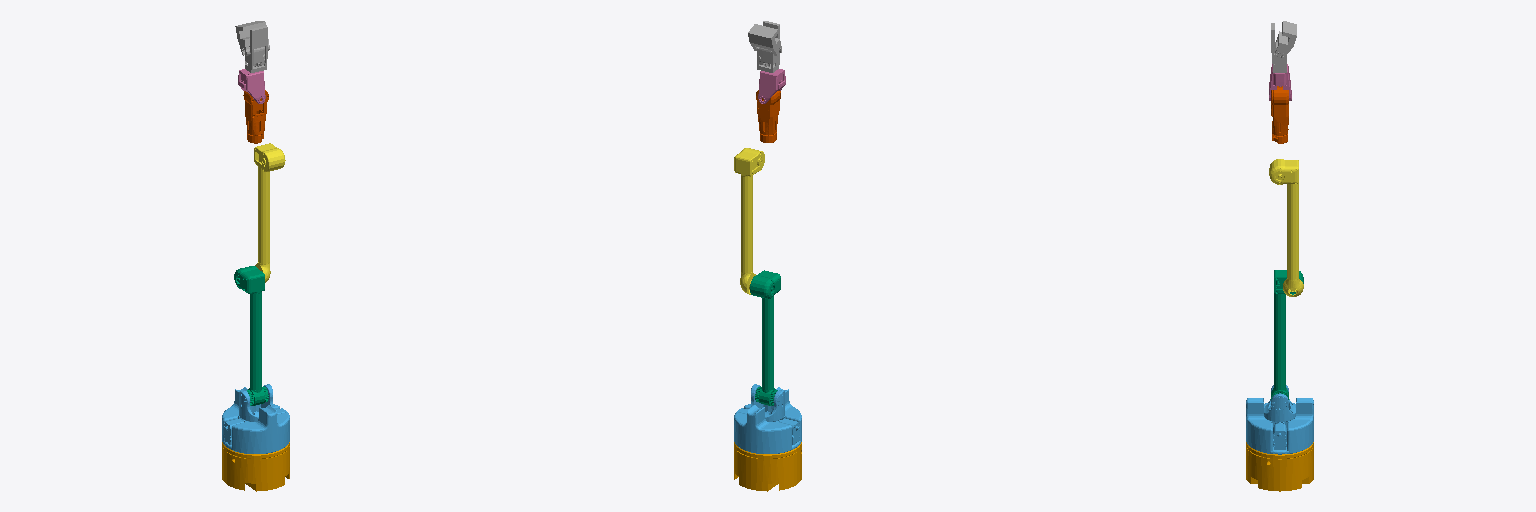
URDF robot description (RobotArm_latest_v4):
<?xml version="1.0" encoding="utf-8"?>
<robot name="RobotArm_latest_v4">
	<link name="1axisUnit_V2_v1:1">
		<inertial>
			<mass value="1.6492919058275461"/>
			<origin rpy="0 0 0" xyz="-0.000576388088246092 0.0016491640558422408 0.0015186369656774057"/>
			<inertia ixx="0.003919393469982381" ixy="-3.2319365894090847e-06" ixz="2.1439122441835943e-05" iyy="0.003813861655533455" iyz="-1.3107000977914124e-05" izz="0.005373773666601636"/>
		</inertial>
		<collision name="1axisUnit_V2_v1:1_collision">
			<origin rpy="1.5707963267948915 6.523902405371839e-23 -1.6940658945086007e-21" xyz="4.440892098500635e-18 -9.769962616701378e-17 -1.509903313490213e-16"/>
			<geometry>
				<mesh filename="../meshes/1axisUnit_V2_v1.stl" scale="1.0 1.0 1.0"/>
			</geometry>
		</collision>
		<visual name="1axisUnit_V2_v1:1_visual">
			<origin rpy="1.5707963267948915 6.523902405371839e-23 -1.6940658945086007e-21" xyz="4.440892098500635e-18 -9.769962616701378e-17 -1.509903313490213e-16"/>
			<geometry>
				<mesh filename="../meshes/1axisUnit_V2_v1.stl" scale="1.0 1.0 1.0"/>
			</geometry>
		</visual>
	</link>
	<link name="2axisUnit_V2_v1:1">
		<inertial>
			<mass value="1.2904396303449601"/>
			<origin rpy="0 0 0" xyz="2.4656351633139383e-06 -2.8915223362521925e-06 0.04025801037904122"/>
			<inertia ixx="0.003359360159203426" ixy="-2.7205016441996785e-07" ixz="8.705883460394097e-08" iyy="0.002901837881422392" iyz="-1.8124689093922272e-07" izz="0.004350868283339188"/>
		</inertial>
		<collision name="2axisUnit_V2_v1:1_collision">
			<origin rpy="1.5707963267948906 6.523902405371838e-23 -1.6940658945086007e-21" xyz="0.0 0.0 0.0"/>
			<geometry>
				<mesh filename="../meshes/2axisUnit_V2_v1.stl" scale="1.0 1.0 1.0"/>
			</geometry>
		</collision>
		<visual name="2axisUnit_V2_v1:1_visual">
			<origin rpy="1.5707963267948906 6.523902405371838e-23 -1.6940658945086007e-21" xyz="0.0 0.0 0.0"/>
			<geometry>
				<mesh filename="../meshes/2axisUnit_V2_v1.stl" scale="1.0 1.0 1.0"/>
			</geometry>
		</visual>
	</link>
	<link name="3axisUnit_V3_v1:1">
		<inertial>
			<mass value="0.24656823524718646"/>
			<origin rpy="0 0 0" xyz="0.02255647088429151 0.01071370705918008 0.1903083823864123"/>
			<inertia ixx="0.00414005444517233" ixy="5.23365524210864e-06" ixz="7.708919417689804e-05" iyy="0.0040981689273819144" iyz="-0.00028010926245052123" izz="0.00012200890992039978"/>
		</inertial>
		<collision name="3axisUnit_V3_v1:1_collision">
			<origin rpy="-3.141592653589787 4.0371743676253047e-16 -3.1415926535897927" xyz="0.04 0.031000000000002068 0.2964999999999997"/>
			<geometry>
				<mesh filename="../meshes/3axisUnit_V3_v1.stl" scale="1.0 1.0 1.0"/>
			</geometry>
		</collision>
		<visual name="3axisUnit_V3_v1:1_visual">
			<origin rpy="-3.141592653589787 4.0371743676253047e-16 -3.1415926535897927" xyz="0.04 0.031000000000002068 0.2964999999999997"/>
			<geometry>
				<mesh filename="../meshes/3axisUnit_V3_v1.stl" scale="1.0 1.0 1.0"/>
			</geometry>
		</visual>
	</link>
	<link name="4axisUnit_V3_v1:1">
		<inertial>
			<mass value="0.22835968151193015"/>
			<origin rpy="0 0 0" xyz="0.022527227877253635 -0.011567967503123396 0.2152054112615837"/>
			<inertia ixx="0.003458123011900193" ixy="6.333484787883625e-06" ixz="-9.830290084979084e-05" iyy="0.0034133992070581372" iyz="0.0002407567649558505" izz="0.00011322979019264717"/>
		</inertial>
		<collision name="4axisUnit_V3_v1:1_collision">
			<origin rpy="3.1415926535779786 -6.566118286595108e-16 -1.9338981913259723e-15" xyz="0.027399327255467502 -0.01560367610838086 0.2922499996913254"/>
			<geometry>
				<mesh filename="../meshes/4axisUnit_V3_v1.stl" scale="1.0 1.0 1.0"/>
			</geometry>
		</collision>
		<visual name="4axisUnit_V3_v1:1_visual">
			<origin rpy="3.1415926535779786 -6.566118286595108e-16 -1.9338981913259723e-15" xyz="0.027399327255467502 -0.01560367610838086 0.2922499996913254"/>
			<geometry>
				<mesh filename="../meshes/4axisUnit_V3_v1.stl" scale="1.0 1.0 1.0"/>
			</geometry>
		</visual>
	</link>
	<link name="5axisUnit_V2_v1:1">
		<inertial>
			<mass value="0.15898340253563104"/>
			<origin rpy="0 0 0" xyz="-0.032330261371653984 1.1835534350135143e-05 0.021640892702850745"/>
			<inertia ixx="0.00011681316189311702" ixy="3.1570735792074495e-08" ixz="4.5503994442626095e-07" iyy="0.00013277822169795853" iyz="-3.057968772300513e-08" izz="7.633901854223706e-05"/>
		</inertial>
		<collision name="5axisUnit_V2_v1:1_collision">
			<origin rpy="-1.8166746468720625 -1.5707963267948943 1.817381524874677" xyz="-0.008000000000000009 -1.9436126427891806e-16 -2.220446049250313e-16"/>
			<geometry>
				<mesh filename="../meshes/5axisUnit_V2_v1.stl" scale="1.0 1.0 1.0"/>
			</geometry>
		</collision>
		<visual name="5axisUnit_V2_v1:1_visual">
			<origin rpy="-1.8166746468720625 -1.5707963267948943 1.817381524874677" xyz="-0.008000000000000009 -1.9436126427891806e-16 -2.220446049250313e-16"/>
			<geometry>
				<mesh filename="../meshes/5axisUnit_V2_v1.stl" scale="1.0 1.0 1.0"/>
			</geometry>
		</visual>
	</link>
	<link name="6axisUnit_V2_v1:1">
		<inertial>
			<mass value="0.155294452473962"/>
			<origin rpy="0 0 0" xyz="-0.00019868381399057997 0.0008707799634595213 0.08131429843948212"/>
			<inertia ixx="0.00025461657762102733" ixy="-3.154100817581795e-07" ixz="-2.043171342398531e-06" iyy="0.0002581275245912366" iyz="4.081389396346191e-06" izz="4.467764847505855e-05"/>
		</inertial>
		<collision name="6axisUnit_V2_v1:1_collision">
			<origin rpy="-3.141592653589775 -6.440245808144577e-15 -4.570451759405106e-06" xyz="-0.010452005194530973 -0.02074995222983164 0.019999999999998908"/>
			<geometry>
				<mesh filename="../meshes/6axisUnit_V2_v1.stl" scale="1.0 1.0 1.0"/>
			</geometry>
		</collision>
		<visual name="6axisUnit_V2_v1:1_visual">
			<origin rpy="-3.141592653589775 -6.440245808144577e-15 -4.570451759405106e-06" xyz="-0.010452005194530973 -0.02074995222983164 0.019999999999998908"/>
			<geometry>
				<mesh filename="../meshes/6axisUnit_V2_v1.stl" scale="1.0 1.0 1.0"/>
			</geometry>
		</visual>
	</link>
	<link name="7axisUnit_V2_v1:1">
		<inertial>
			<mass value="0.09420837413767698"/>
			<origin rpy="0 0 0" xyz="-0.011722505262838257 0.021969912068283973 0.04174325396554135"/>
			<inertia ixx="4.3079417761919105e-05" ixy="3.2853663984358514e-08" ixz="9.229365199608708e-07" iyy="4.0408524237523126e-05" iyz="-8.273741230857556e-09" izz="3.538526789725462e-05"/>
		</inertial>
		<collision name="7axisUnit_V2_v1:1_collision">
			<origin rpy="1.5707963267830969 -7.660538730665756e-15 -1.5708054676865917" xyz="-0.009499890595103339 0.021950086164177575 0.030000000000111604"/>
			<geometry>
				<mesh filename="../meshes/7axisUnit_V2_v1.stl" scale="1.0 1.0 1.0"/>
			</geometry>
		</collision>
		<visual name="7axisUnit_V2_v1:1_visual">
			<origin rpy="1.5707963267830969 -7.660538730665756e-15 -1.5708054676865917" xyz="-0.009499890595103339 0.021950086164177575 0.030000000000111604"/>
			<geometry>
				<mesh filename="../meshes/7axisUnit_V2_v1.stl" scale="1.0 1.0 1.0"/>
			</geometry>
		</visual>
	</link>
	<link name="RobotHandUnit_v1:1">
		<inertial>
			<mass value="0.17069797278417315"/>
			<origin rpy="0 0 0" xyz="0.00014835427835340625 0.005990671856333019 0.06235743656459469"/>
			<inertia ixx="0.0001920533040766486" ixy="9.567758909769614e-08" ixz="1.4613630495019293e-06" iyy="0.00019598360062871053" iyz="-2.664575053557936e-05" izz="8.587431142091076e-05"/>
		</inertial>
		<collision name="RobotHandUnit_v1:1_collision">
			<origin rpy="3.1268194674078814e-06 1.1796908009783832e-11 -9.14090351295226e-06" xyz="-0.0021078530678332098 0.015999882602897218 0.06400006819415038"/>
			<geometry>
				<mesh filename="../meshes/RobotHandUnit_v1.stl" scale="1.0 1.0 1.0"/>
			</geometry>
		</collision>
		<visual name="RobotHandUnit_v1:1_visual">
			<origin rpy="3.1268194674078814e-06 1.1796908009783832e-11 -9.14090351295226e-06" xyz="-0.0021078530678332098 0.015999882602897218 0.06400006819415038"/>
			<geometry>
				<mesh filename="../meshes/RobotHandUnit_v1.stl" scale="1.0 1.0 1.0"/>
			</geometry>
		</visual>
	</link>
	<joint name="rev0" type="continuous">
		<parent link="1axisUnit_V2_v1:1"/>
		<child link="2axisUnit_V2_v1:1"/>
		<origin rpy="0 0 0" xyz="3.552713678800501e-17 2.3980817331903383e-16 0.04799999999999983"/>
		<axis xyz="2.0816698767959734e-16 -6.158584260590885e-15 -1.0"/>
	</joint>
	<joint name="rev1" type="continuous">
		<parent link="2axisUnit_V2_v1:1"/>
		<child link="3axisUnit_V3_v1:1"/>
		<origin rpy="0 0 0" xyz="-0.025999999999999995 8.320618415054219e-16 0.11450000000000005"/>
		<axis xyz="-1.0 -4.0371576943416255e-16 6.523902654259343e-23"/>
	</joint>
	<joint name="rev2" type="continuous">
		<parent link="3axisUnit_V3_v1:1"/>
		<child link="4axisUnit_V3_v1:1"/>
		<origin rpy="0 0 0" xyz="0.04550000000005672 0.030999999999995993 0.29650000000128046"/>
		<axis xyz="-1.0 -9.844131683898484e-17 -5.301650432419836e-16"/>
	</joint>
	<joint name="rev3" type="continuous">
		<parent link="4axisUnit_V3_v1:1"/>
		<child link="5axisUnit_V2_v1:1"/>
		<origin rpy="0 0 0" xyz="-5.608707942528213e-14 -0.030999999996372648 0.3065000000016464"/>
		<axis xyz="1.0 -2.3501954084031312e-15 5.301642221836653e-16"/>
	</joint>
	<joint name="rev4" type="continuous">
		<parent link="5axisUnit_V2_v1:1"/>
		<child link="6axisUnit_V2_v1:1"/>
		<origin rpy="0 0 0" xyz="-0.01999999091727354 2.0682211801997738e-08 0.06149999999619804"/>
		<axis xyz="6.240610788446815e-15 1.8161855574136197e-14 -0.9999999999999992"/>
	</joint>
	<joint name="rev5" type="continuous">
		<parent link="6axisUnit_V2_v1:1"/>
		<child link="7axisUnit_V2_v1:1"/>
		<origin rpy="0 0 0" xyz="-9.940860663077648e-08 -0.021749999995972314 0.11499999999999366"/>
		<axis xyz="4.57045175377596e-06 0.9999999999895557 1.0152997878510744e-14"/>
	</joint>
	<joint name="rev6" type="continuous">
		<parent link="7axisUnit_V2_v1:1"/>
		<child link="RobotHandUnit_v1:1"/>
		<origin rpy="0 0 0" xyz="1.0940496034898134e-07 0.021949999326987008 0.0694999999961976"/>
		<axis xyz="-1.18050314673078e-11 1.0498257834049587e-14 -0.9999999999999994"/>
	</joint>
</robot>

--- Facts derived from the render (not from the file) ---
The picture shows the robot from 3 angles, left to right: view 1: azimuth 30°, elevation 25°; view 2: azimuth 150°, elevation 25°; view 3: azimuth 270°, elevation 25°; orthographic projection.
Robot: RobotArm_latest_v4 — 8 links, 7 joints (7 continuous); root link 1axisUnit_V2_v1:1; default pose: every joint at zero.
Visible links, largest first — view 1: 2axisUnit_V2_v1:1, 1axisUnit_V2_v1:1, 3axisUnit_V3_v1:1, 4axisUnit_V3_v1:1, RobotHandUnit_v1:1, 6axisUnit_V2_v1:1, 7axisUnit_V2_v1:1; view 2: 2axisUnit_V2_v1:1, 1axisUnit_V2_v1:1, 3axisUnit_V3_v1:1, 4axisUnit_V3_v1:1, RobotHandUnit_v1:1, 6axisUnit_V2_v1:1, 7axisUnit_V2_v1:1; view 3: 2axisUnit_V2_v1:1, 1axisUnit_V2_v1:1, 4axisUnit_V3_v1:1, 3axisUnit_V3_v1:1, RobotHandUnit_v1:1, 6axisUnit_V2_v1:1.
Link boxes in pixels (x1,y1,x2,y2): 2axisUnit_V2_v1:1: [222, 384, 289, 453]; 1axisUnit_V2_v1:1: [222, 442, 289, 491]; 3axisUnit_V3_v1:1: [234, 266, 268, 405]; 4axisUnit_V3_v1:1: [254, 143, 285, 282]; RobotHandUnit_v1:1: [235, 21, 269, 72]; 6axisUnit_V2_v1:1: [243, 90, 268, 143]; 7axisUnit_V2_v1:1: [238, 69, 265, 103]; 2axisUnit_V2_v1:1: [734, 384, 801, 453]; 1axisUnit_V2_v1:1: [734, 442, 801, 491]; 3axisUnit_V3_v1:1: [750, 270, 780, 405]; 4axisUnit_V3_v1:1: [734, 148, 764, 294]; RobotHandUnit_v1:1: [748, 21, 781, 72]; 6axisUnit_V2_v1:1: [756, 90, 780, 142]; 7axisUnit_V2_v1:1: [758, 69, 785, 103]; 2axisUnit_V2_v1:1: [1246, 385, 1313, 454]; 1axisUnit_V2_v1:1: [1246, 442, 1313, 491]; 4axisUnit_V3_v1:1: [1269, 159, 1303, 296]; 3axisUnit_V3_v1:1: [1271, 270, 1303, 399]; RobotHandUnit_v1:1: [1271, 21, 1296, 72]; 6axisUnit_V2_v1:1: [1271, 86, 1288, 143].
Size in the robot's own frame: 0.167 by 0.16 by 1.17 metres.
7 mesh visuals loaded from 8 distinct referenced files (7 binary STL); not drawn: 1 (reference not matched to a file when rendering).